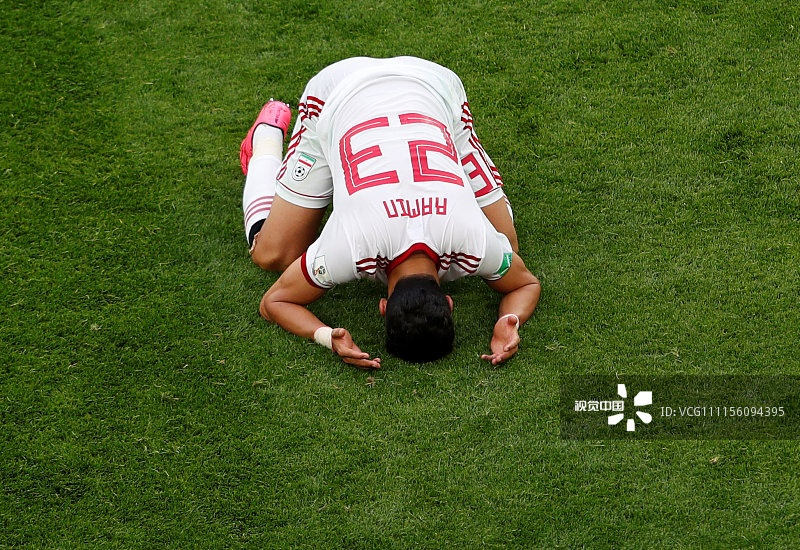falling: (229, 46, 557, 383)
